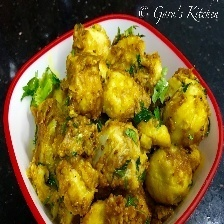sabzi: (26, 22, 212, 224)
